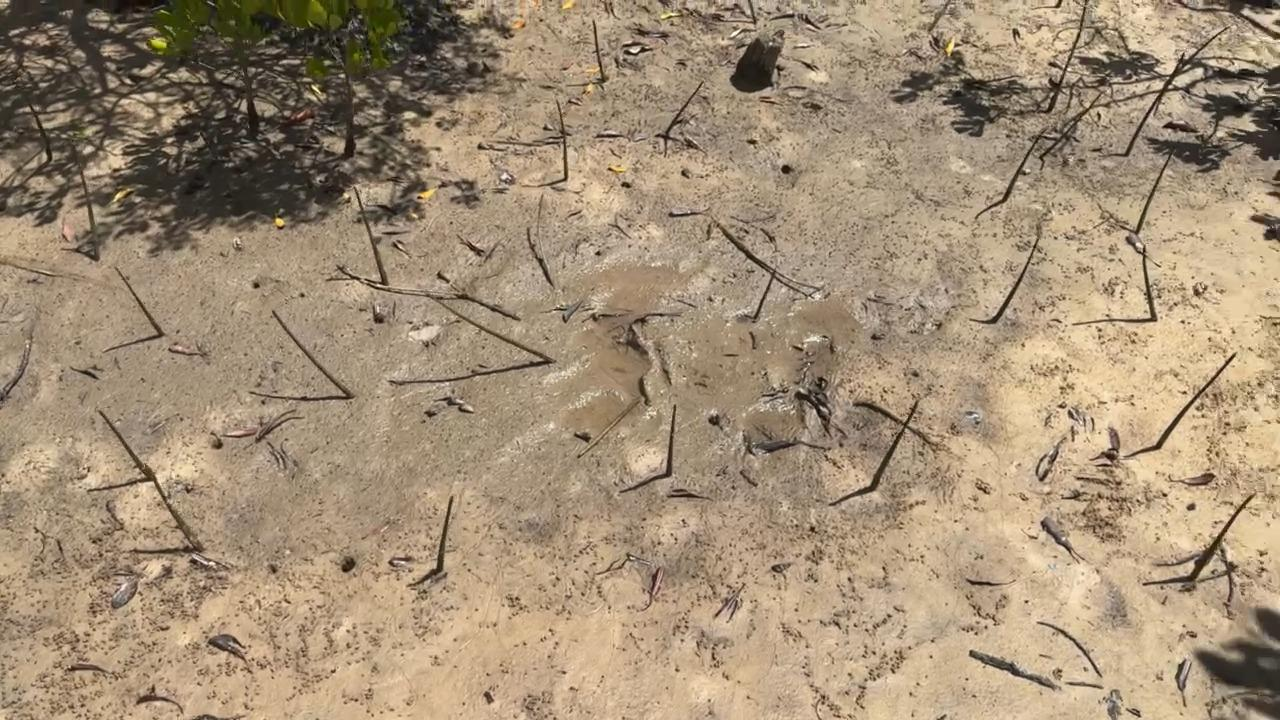Tree: (269, 0, 405, 161), (145, 0, 268, 133), (428, 294, 557, 365), (1156, 351, 1237, 448), (272, 309, 355, 399), (1125, 51, 1186, 154), (1187, 492, 1257, 580), (149, 470, 204, 552), (870, 399, 920, 488), (97, 408, 154, 479), (994, 237, 1040, 322), (114, 266, 165, 337), (353, 186, 388, 285), (1168, 25, 1229, 81), (1136, 151, 1173, 234), (1046, 28, 1082, 112), (1002, 137, 1039, 201), (536, 192, 558, 287), (664, 80, 703, 133), (78, 169, 100, 261), (25, 101, 52, 162), (436, 496, 455, 572), (1142, 244, 1158, 321), (555, 98, 567, 179), (665, 403, 677, 477), (591, 20, 605, 81), (1079, 0, 1090, 29), (747, 0, 756, 26)
